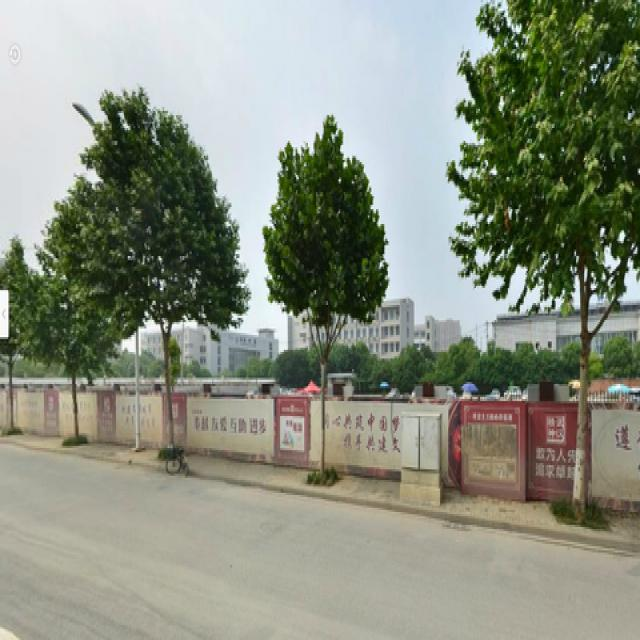meta: (274, 130, 382, 476)
